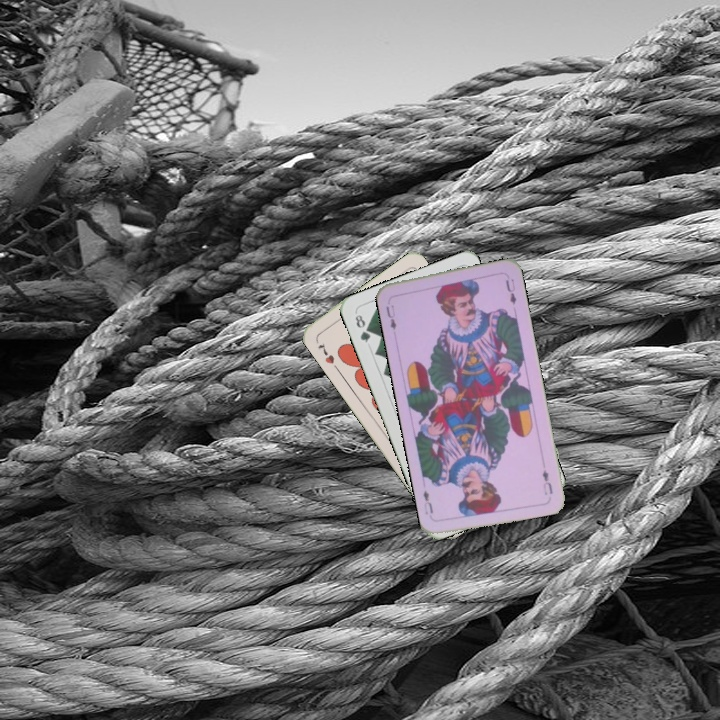EU: (382, 301, 399, 332), (538, 466, 555, 497)
G8: (351, 309, 373, 345)
H7: (314, 339, 337, 367)
